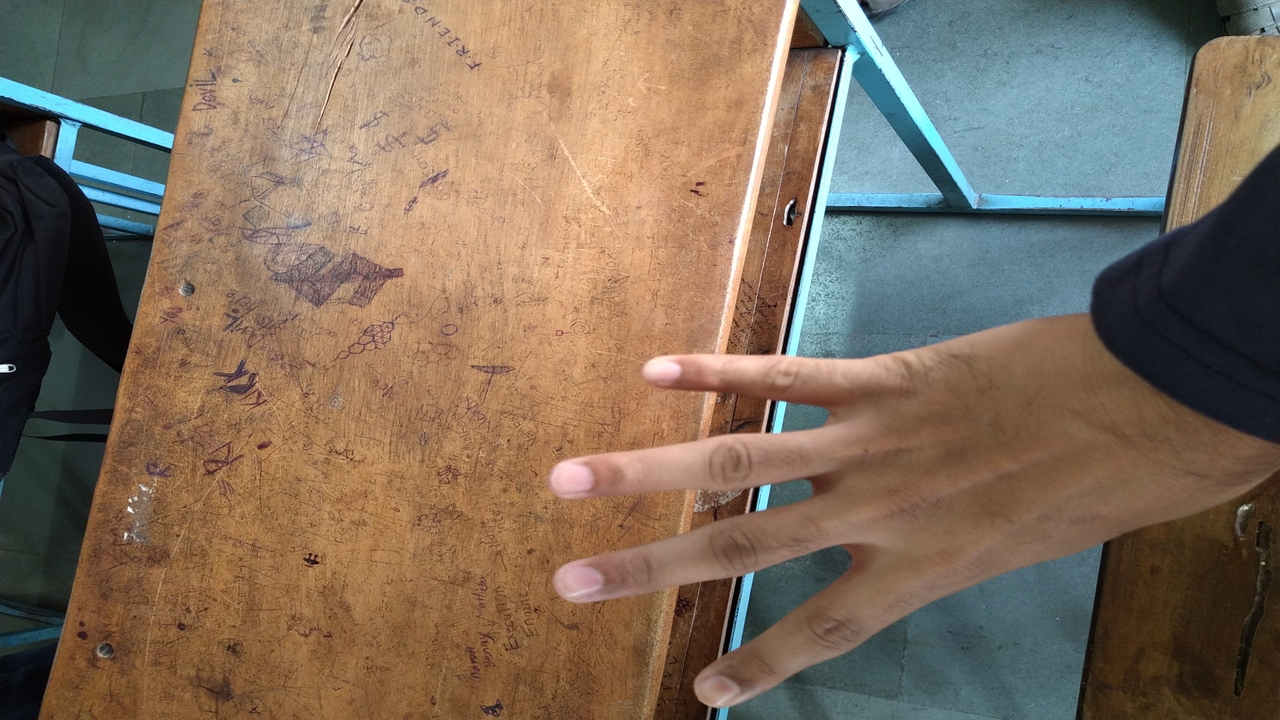fingertip: (551, 544, 610, 609), (689, 659, 745, 711), (550, 452, 598, 504), (631, 353, 684, 388)
